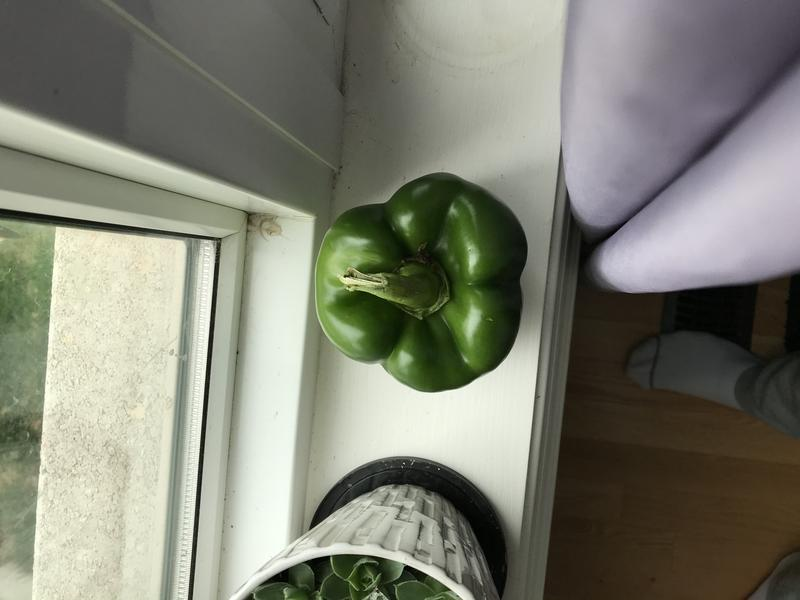green_pepper: (298, 154, 534, 405)
